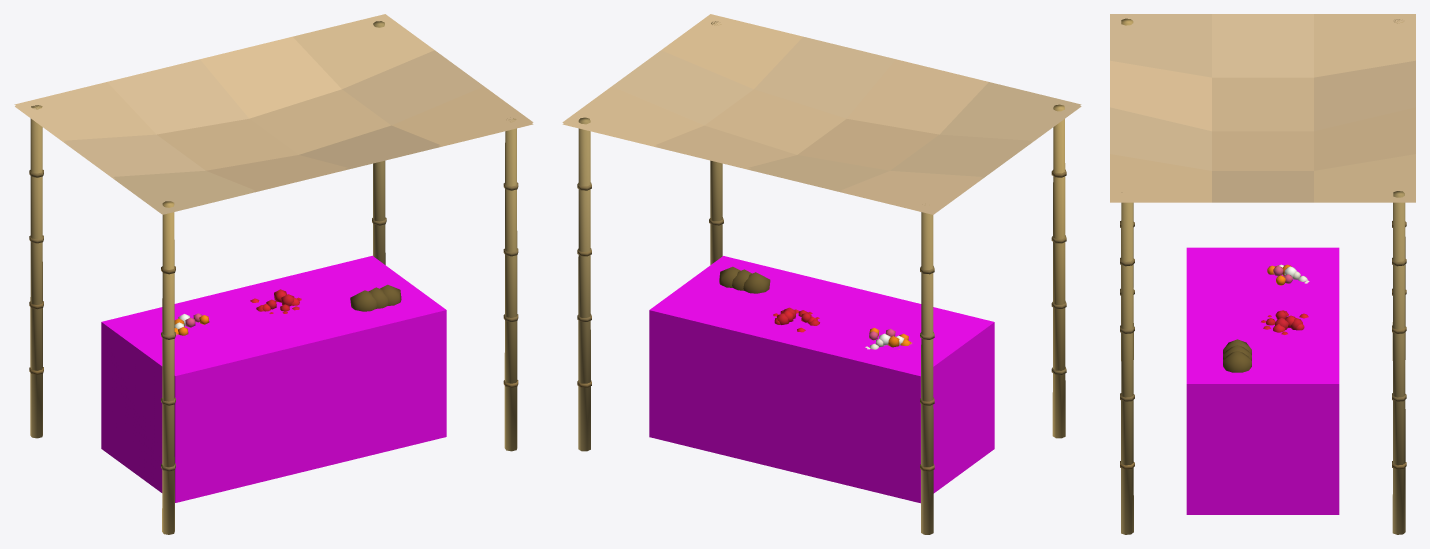
The model's file is ENV_Festival_Station_A.glb.
3 renders of one model, left to right at view 1: azimuth 30°, elevation 25°; view 2: azimuth 150°, elevation 25°; view 3: azimuth 270°, elevation 25°, orthographic. The views are drawn at different scales.
Visible parts, largest first — view 1: COL_Table, ENV_Festival_Station_A_Canopy, ENV_Festival_Station_A_Mesh; view 2: COL_Table, ENV_Festival_Station_A_Canopy, ENV_Festival_Station_A_Mesh; view 3: ENV_Festival_Station_A_Canopy, COL_Table, ENV_Festival_Station_A_Mesh.
Boxes of the visible parts, box(x1,y1,x2,y2) form: COL_Table: box(101, 255, 446, 502); ENV_Festival_Station_A_Canopy: box(14, 14, 533, 214); ENV_Festival_Station_A_Mesh: box(29, 21, 518, 534); COL_Table: box(649, 256, 994, 503); ENV_Festival_Station_A_Canopy: box(562, 14, 1081, 214); ENV_Festival_Station_A_Mesh: box(577, 21, 1066, 534); ENV_Festival_Station_A_Canopy: box(1110, 14, 1415, 202); COL_Table: box(1186, 247, 1339, 514); ENV_Festival_Station_A_Mesh: box(1120, 18, 1406, 534).
Bounding box in the file's own units: 2.6 × 2.21 × 1.8.
